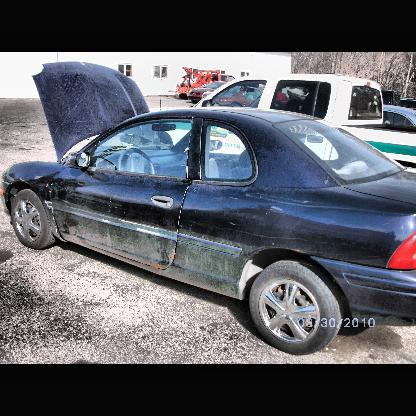Plymouth Neon Coupe 1999: (2, 61, 416, 357)
